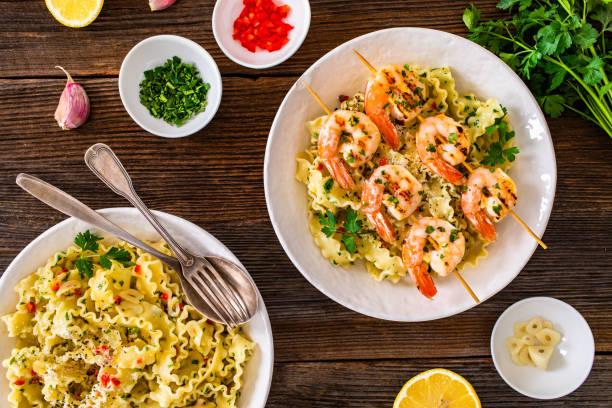Braised Crucian Carp: (265, 26, 554, 323), (0, 207, 275, 407)
